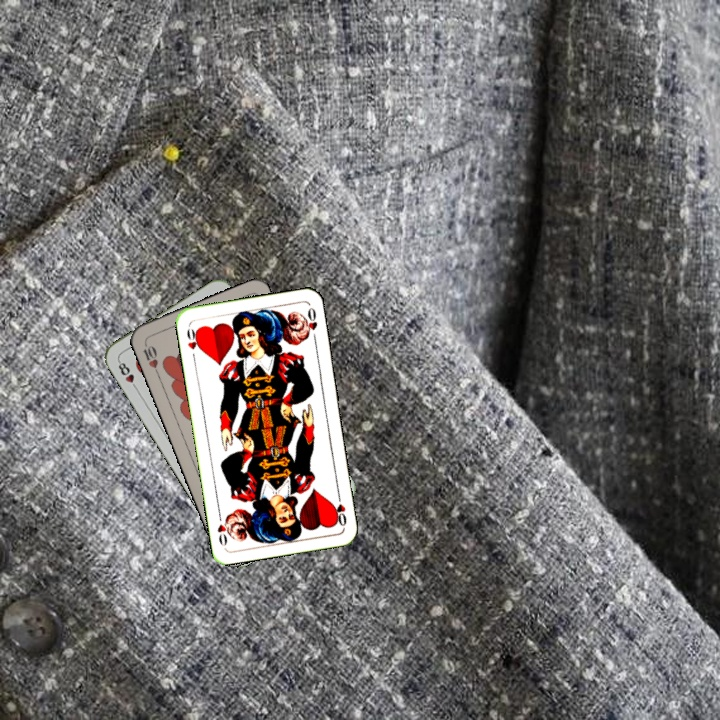H10: (139, 338, 162, 377)
H8: (114, 356, 141, 393)
HO: (330, 489, 349, 529), (183, 325, 203, 362)
